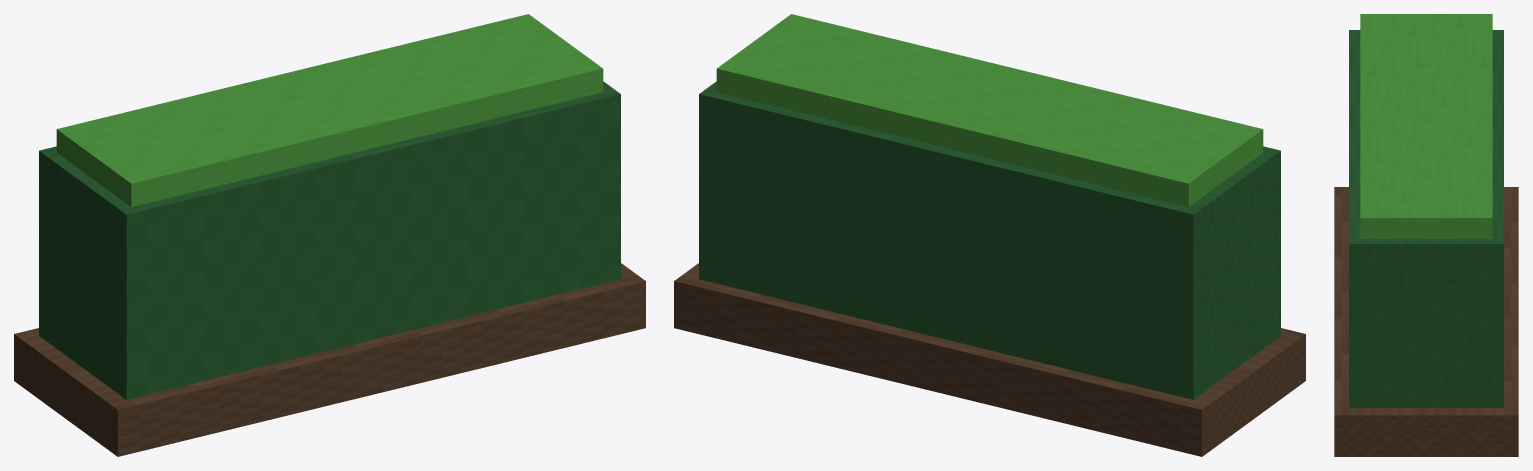
The model's file is hedge-lod0.glb.
The picture shows the model from 3 angles, left to right: view 1: azimuth 30°, elevation 25°; view 2: azimuth 150°, elevation 25°; view 3: azimuth 270°, elevation 25°; orthographic projection. The views are drawn at different scales.
Visible parts, largest first — view 1: hedge-lod0; view 2: hedge-lod0; view 3: hedge-lod0.
Part boxes in pixels (bbox=[...]): hedge-lod0: bbox=[14, 14, 645, 456]; hedge-lod0: bbox=[674, 14, 1305, 456]; hedge-lod0: bbox=[1334, 14, 1518, 456].
Size of the model in its own units: 1.88 by 0.87 by 0.64.
Materials: 1 (1 with a texture image).
